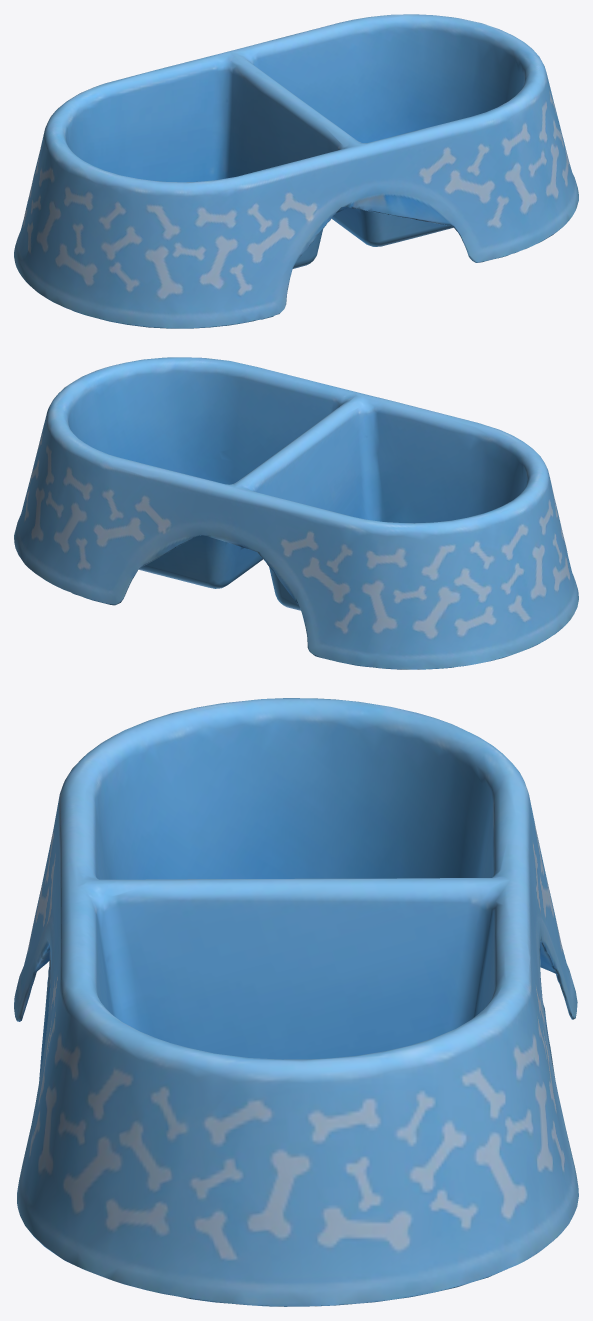
File: Grreat_Choice_Dog_Double_Dish_Plastic_Blue.glb
3 views of the same model, one above another, from view 1: azimuth 30°, elevation 25°; view 2: azimuth 150°, elevation 25°; view 3: azimuth 270°, elevation 25° (orthographic). The views are drawn at different scales.
Visible parts, largest first — view 1: Grreat_Choice_Dog_Double_Dish_Plastic_Blue; view 2: Grreat_Choice_Dog_Double_Dish_Plastic_Blue; view 3: Grreat_Choice_Dog_Double_Dish_Plastic_Blue.
Part boxes in pixels (box(x1,y1,x2,y2)): Grreat_Choice_Dog_Double_Dish_Plastic_Blue: box(14, 14, 578, 328); Grreat_Choice_Dog_Double_Dish_Plastic_Blue: box(14, 357, 578, 669); Grreat_Choice_Dog_Double_Dish_Plastic_Blue: box(14, 698, 578, 1306).
Bounding box in the file's own units: 0.3381 × 0.0838 × 0.1885.
1 material, 1 textured.
